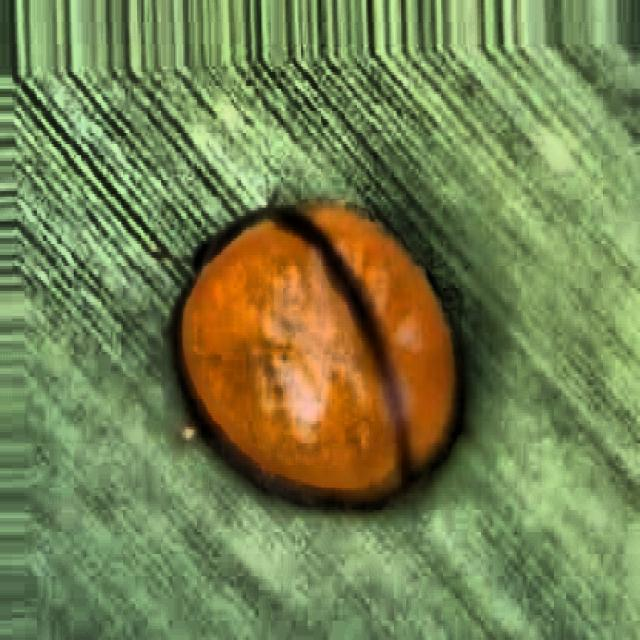Ladybug: (100, 114, 520, 570)
